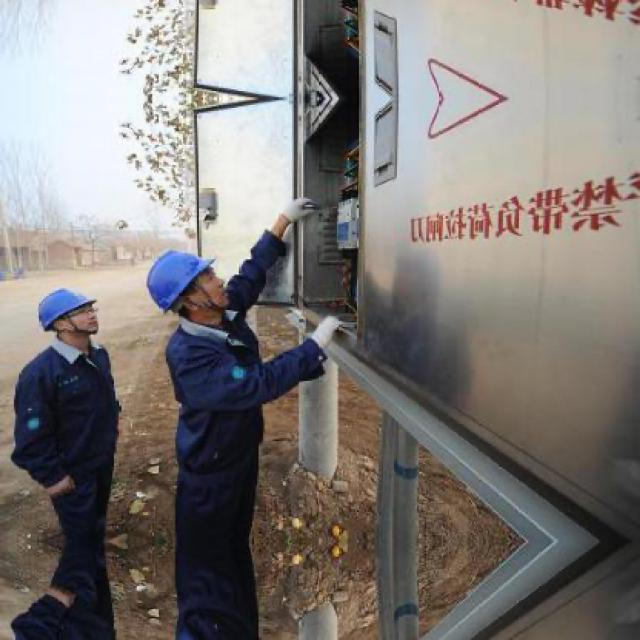helmet: (131, 242, 231, 326), (35, 282, 103, 347)
